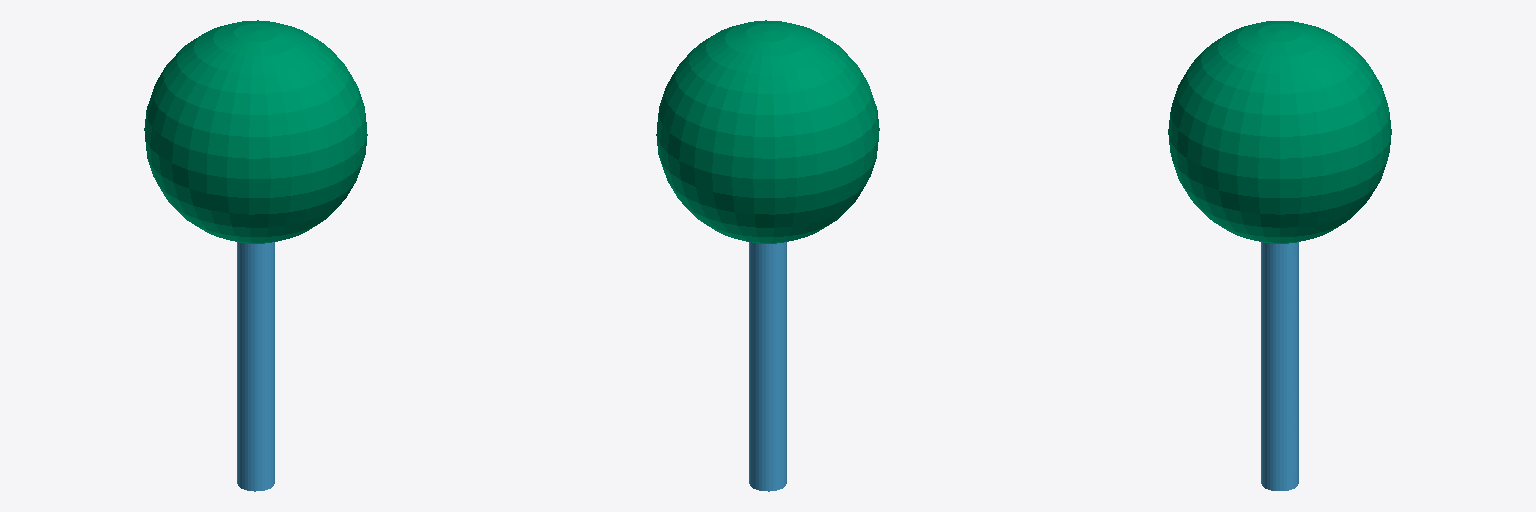
robot.urdf — myfirst:
<?xml version="1.0"?>
<robot name="myfirst">

  <link name="world"/>

  <joint name="world_to_cylinder" type="fixed">
    <origin xyz="2 0 2" rpy="0 0 0"/>
    <parent link="world"/>
    <child link="cylinder_link"/>
  </joint>

  <link name="cylinder_link">
    <visual>
      <geometry>
        <cylinder length="4" radius="0.25"/>
      </geometry>
    </visual>
    <collision>
      <geometry>
        <cylinder length="4" radius="0.25"/>
      </geometry>
    </collision>
  </link>

  <joint name="world_to_sphere" type="fixed">
    <origin xyz="2 0 5.2" rpy="0 0 0"/>
    <parent link="world"/>
    <child link="sphere_link"/>
  </joint>

    <link name="sphere_link">
    <visual>
      <geometry>
        <sphere radius="1.5"/>
      </geometry>
    </visual>
    <collision>
      <geometry>
        <sphere radius="1.5"/>
      </geometry>
    </collision>
  </link>

  <!--<joint name="world_to_wall" type="fixed">
    <origin xyz="3 0 2.5" rpy="0 0 0"/>
    <parent link="world"/>
    <child link="wall_link"/>
  </joint>

  <link name="wall_link">
    <visual>
      <geometry>
        <box size="0.3 5.0 5.0"/>
      </geometry>
    </visual>
    <collision>
      <geometry>
        <box size="0.3 5.0 5.0"/>
      </geometry>
    </collision>
  </link>-->


</robot>

--- What the picture shows (computed from the rendered views, not written in the file) ---
Views: 3 orthographic renders of the robot side by side, from view 1: azimuth 30°, elevation 25°; view 2: azimuth 150°, elevation 25°; view 3: azimuth 270°, elevation 25°.
Robot: myfirst — 3 links, 2 joints (2 fixed); root link world; default pose: all joints at 0.
Visible links, largest first — view 1: sphere_link, cylinder_link; view 2: sphere_link, cylinder_link; view 3: sphere_link, cylinder_link.
Boxes of the visible links, box(x1,y1,x2,y2) form: sphere_link: box(144, 20, 367, 243); cylinder_link: box(237, 242, 274, 491); sphere_link: box(656, 20, 879, 243); cylinder_link: box(749, 242, 786, 491); sphere_link: box(1168, 21, 1391, 243); cylinder_link: box(1261, 242, 1298, 490).
Size in the robot's own frame: 3 by 3 by 6.7 metres.
Geometry: primitives only (box / cylinder / sphere), no mesh files.
